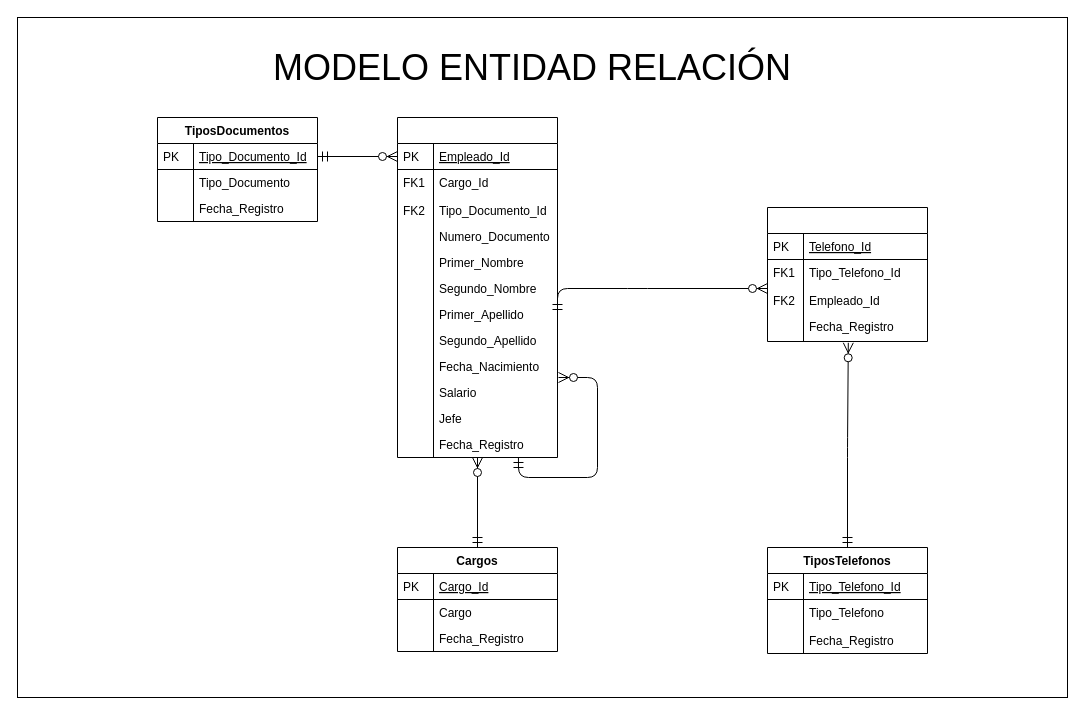
Image size: 1085x715. Some labels were removed from this diagram. The shapes that lost their labels are listed below. From the top down, each one's box as (x1, y1, x2, y2) in pixels, then its label:
(396, 116, 558, 458): Empleados
(766, 206, 928, 342): Telefonos
